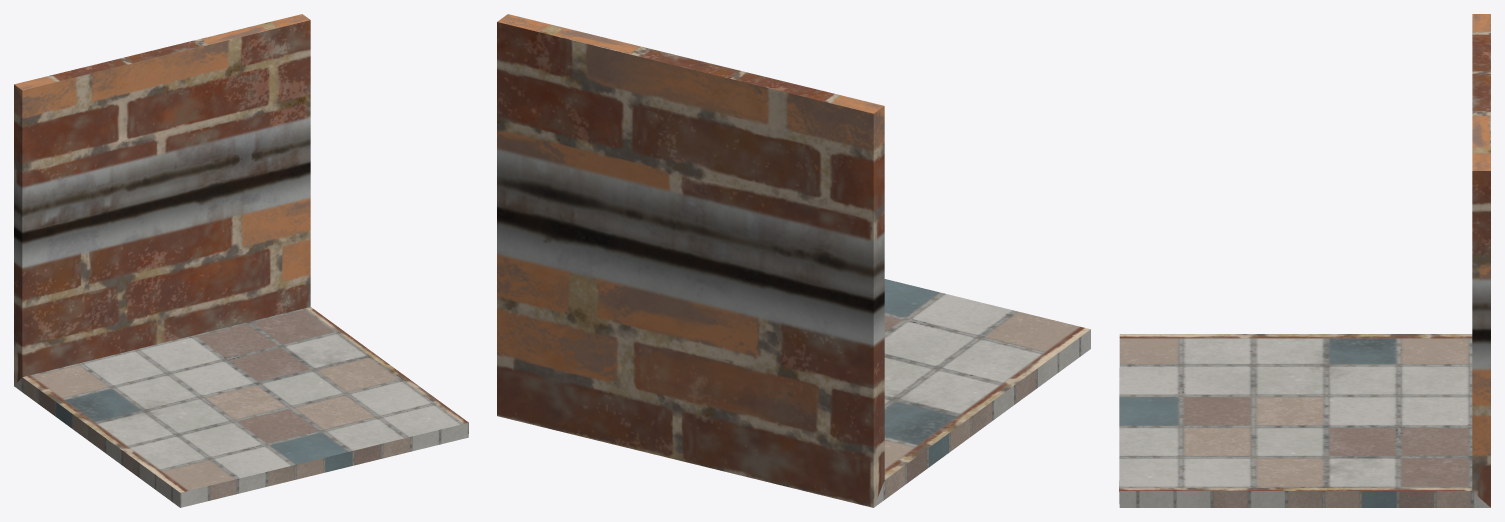
Rendered from tile4.dae.
3 views of the same model, side by side, from view 1: azimuth 30°, elevation 25°; view 2: azimuth 150°, elevation 25°; view 3: azimuth 270°, elevation 25° (orthographic). The views are drawn at different scales.
Visible parts, largest first — view 1: Cube; view 2: Cube; view 3: Cube.
Boxes of the visible parts, left/top/right/bottom form: Cube: left=14, top=14, right=468, bottom=507; Cube: left=497, top=14, right=1090, bottom=507; Cube: left=1119, top=14, right=1490, bottom=507.
Size of the model in its own units: 5 by 5 by 5.
1 material, 1 textured.
